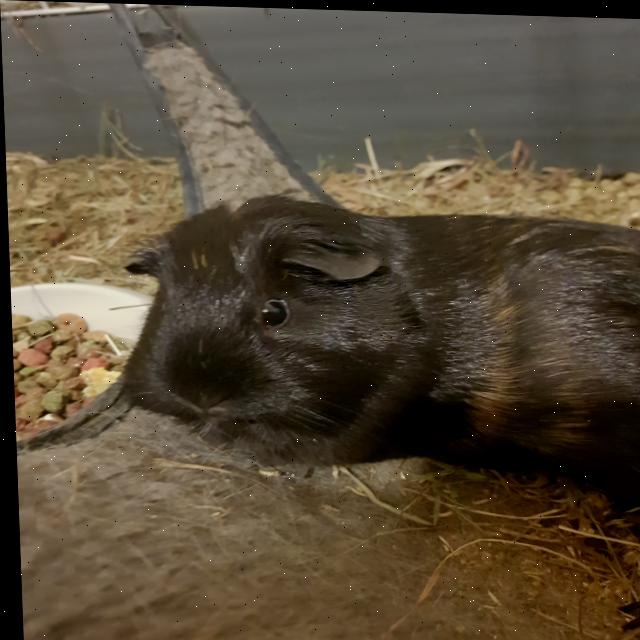guinea pig: (110, 183, 640, 511)
